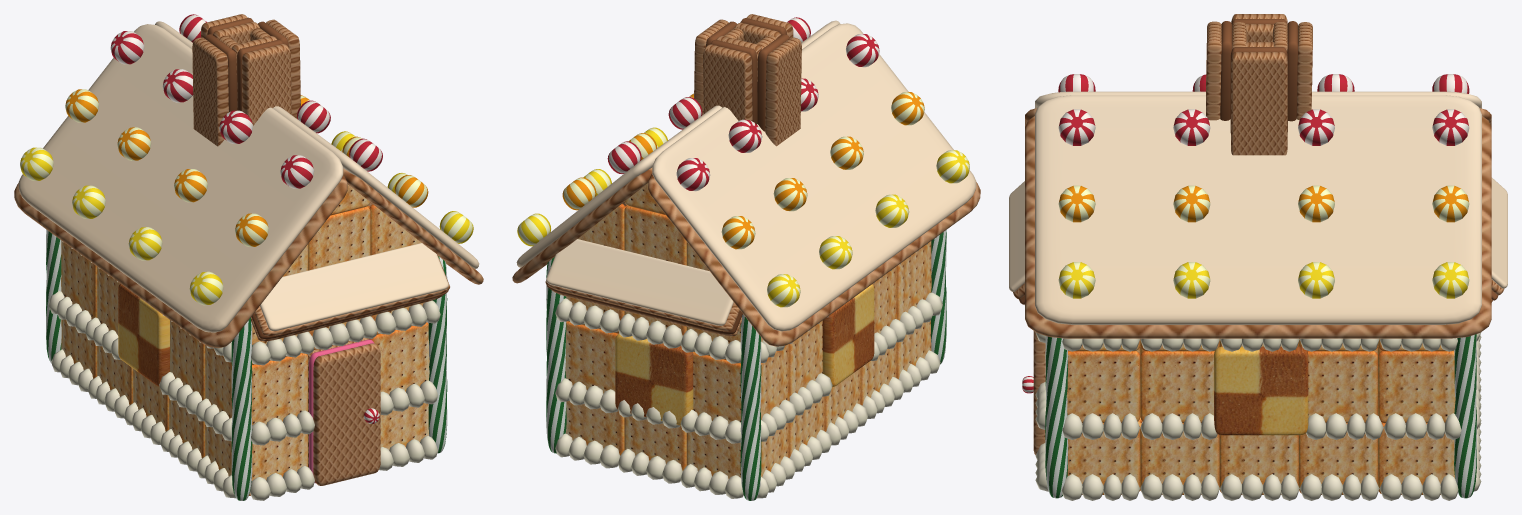
Rendered from cw_house_18.fbx.
The picture shows the model from 3 angles, left to right: view 1: azimuth 30°, elevation 25°; view 2: azimuth 150°, elevation 25°; view 3: azimuth 270°, elevation 25°; orthographic projection. The views are drawn at different scales.
Parts seen in each view (by area): view 1: cw_house_18; view 2: cw_house_18; view 3: cw_house_18.
Part boxes in pixels (x1=…): cw_house_18: x1=14, y1=14, x2=483, y2=500; cw_house_18: x1=512, y1=14, x2=980, y2=500; cw_house_18: x1=1009, y1=14, x2=1507, y2=500.
Size of the model in its own units: 483 by 624 by 680.
